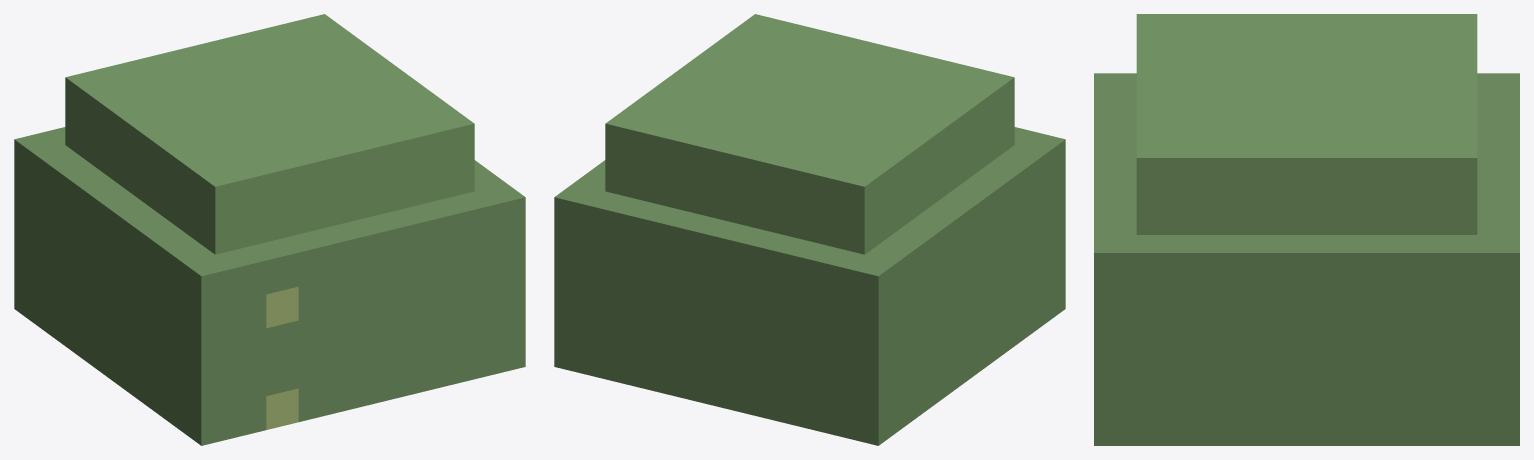
File: grosella_espinosa_01.glb
3 views of the same model, side by side, from view 1: azimuth 30°, elevation 25°; view 2: azimuth 150°, elevation 25°; view 3: azimuth 270°, elevation 25° (orthographic). The views are drawn at different scales.
Visible parts, largest first — view 1: grosella_espinosa_01; view 2: grosella_espinosa_01; view 3: grosella_espinosa_01.
Boxes of the visible parts, bbox=[...] form: grosella_espinosa_01: bbox=[14, 14, 525, 445]; grosella_espinosa_01: bbox=[554, 14, 1065, 445]; grosella_espinosa_01: bbox=[1094, 14, 1519, 445].
Bounding box in the file's own units: 1 × 0.7 × 1.
